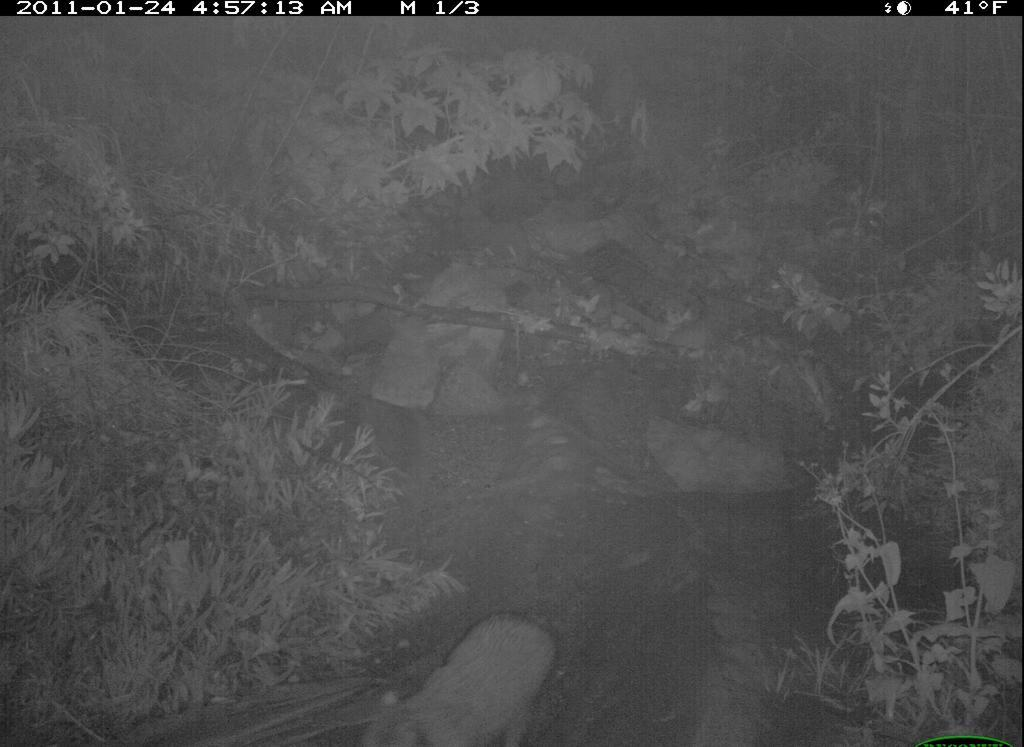raccoon: (349, 609, 561, 747)
